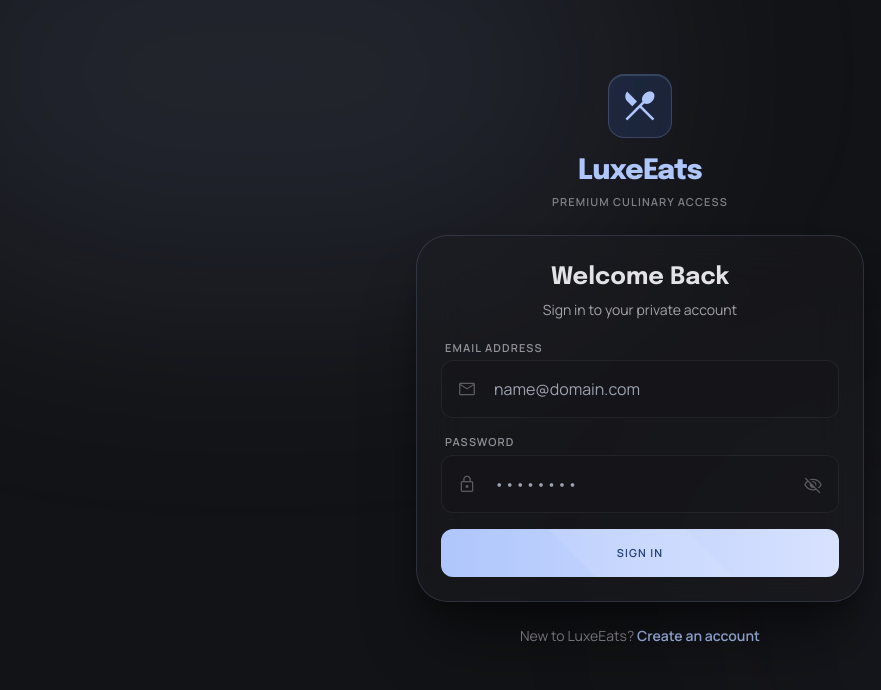
Test: LoginPage — Error States › PADLOCK 2 — shows error on HTTP 401 (bad credentials)
This screenshot has width=881, height=690.
Type "bad@example.com" into the field labelled "EMAIL ADDRESS" at (640, 389), box [441, 360, 839, 418]
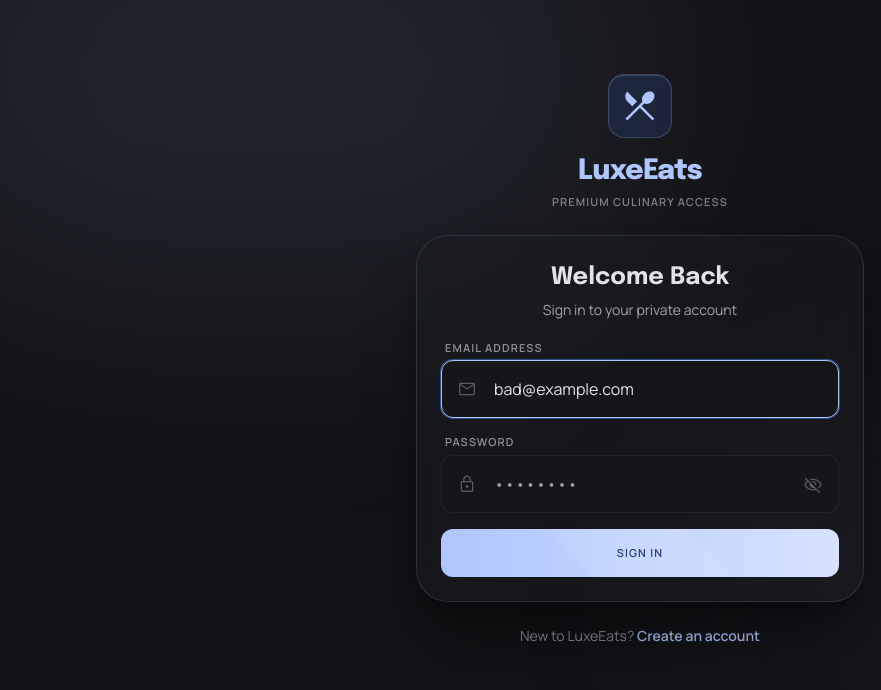
Type "wrongpass" into the password field labelled "PASSWORD" at (640, 484), box [441, 454, 839, 512]
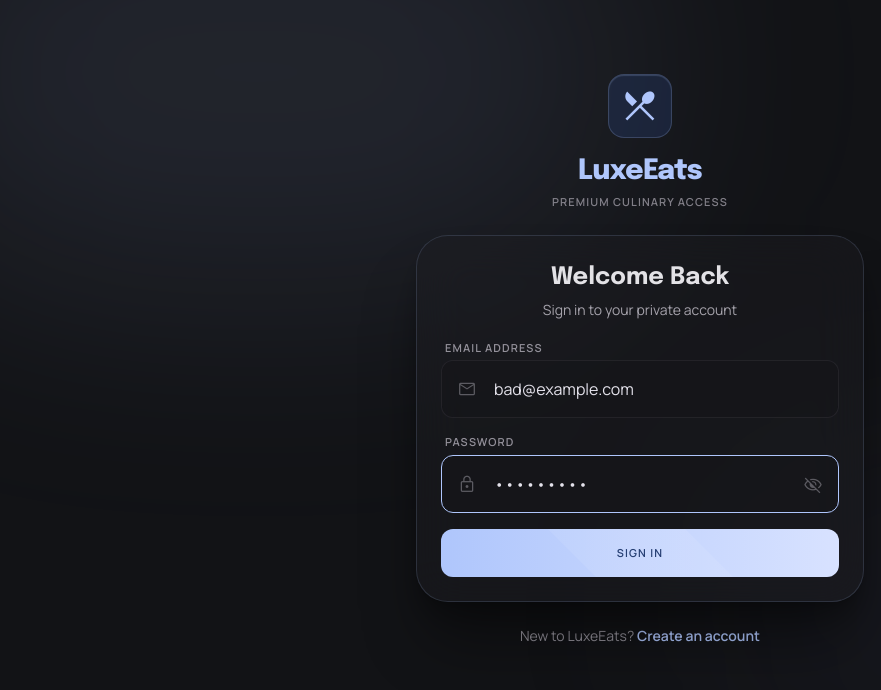
Click the button "SIGN IN" at (640, 553), box [441, 528, 839, 577]
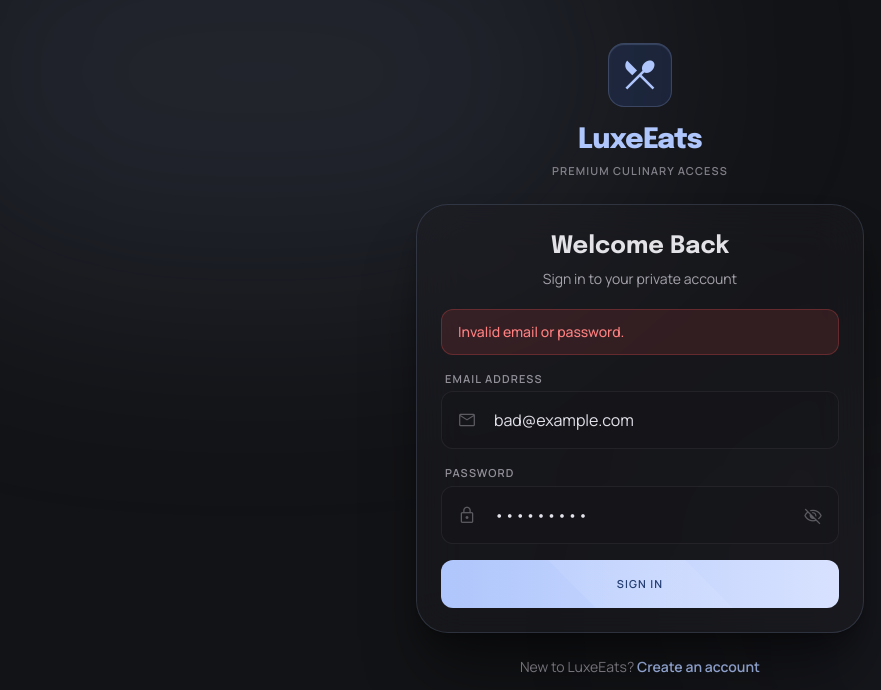
Expected: the message shows "Invalid email or password", [458, 322, 624, 340]
